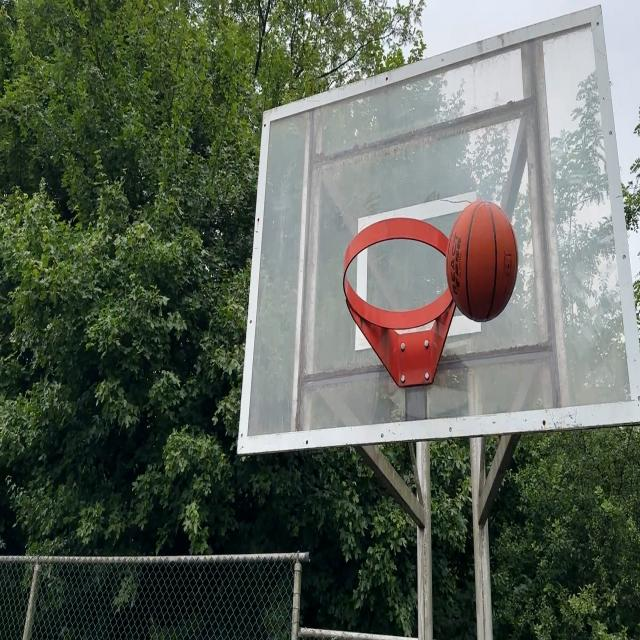Basketball: (448, 198, 522, 320)
